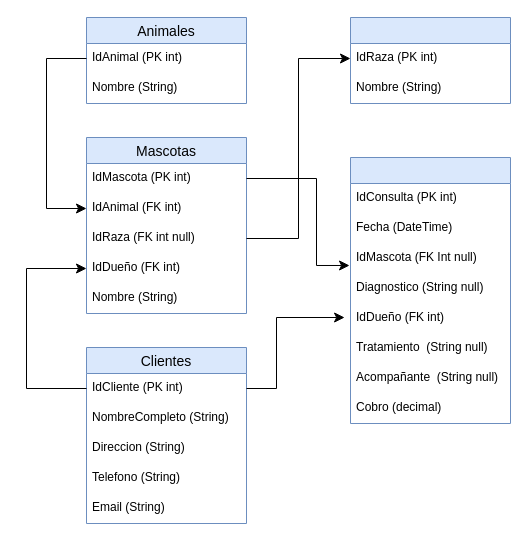
This 528x544 diagram has some shape labels left out. Each missing label, with the box of its shape:
Consultas: (350, 156, 510, 424)
Razas: (350, 16, 510, 104)
